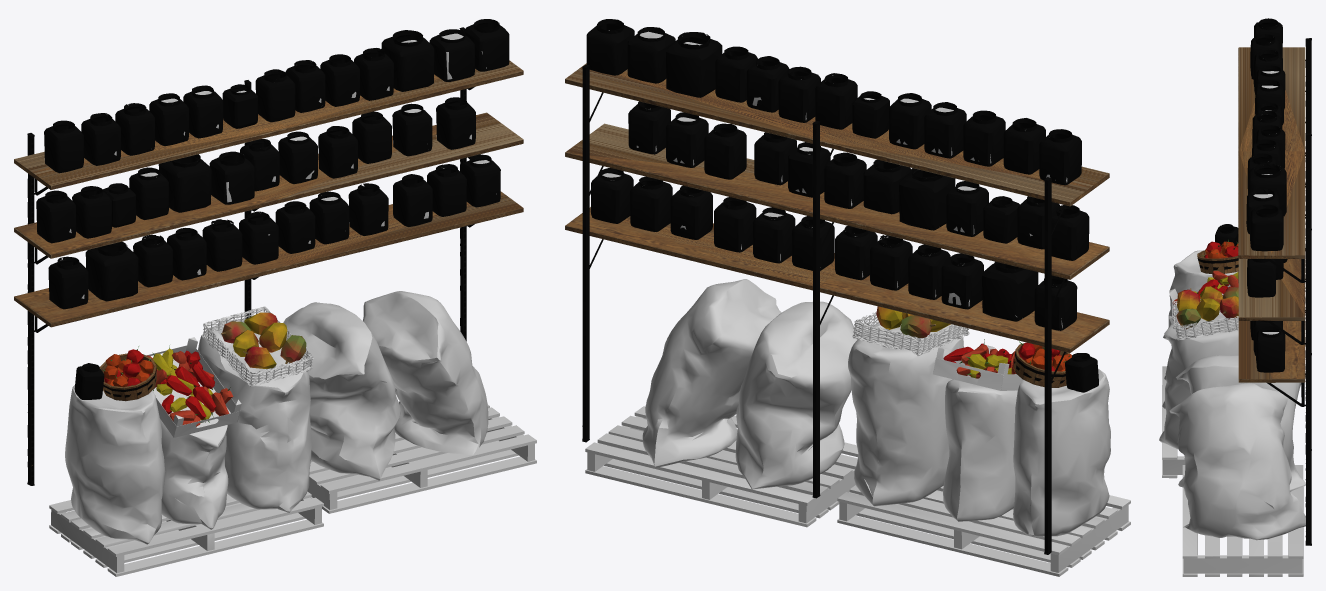
The model's file is vasi e sacchi.fbx.
3 renders of one model, left to right at view 1: azimuth 30°, elevation 25°; view 2: azimuth 150°, elevation 25°; view 3: azimuth 270°, elevation 25°, orthographic. The views are drawn at different scales.
Visible parts, largest first — view 1: AM216_33_bags_01, AM216_33_jar_01_28_1, AM216_33_shelves_01, AM216_33_pallet_01_1, AM216_33_jar_03_02_1, AM216_33_jar_04_02_1, AM216_33_jar_02_02_1, AM216_33_basket_01, AM216_33_box_01, AM216_33_pepper_01_10_1, AM216_33_pepper_03_09_1, AM216_33_mango_01_1 (+5 smaller); view 2: AM216_33_bags_01, AM216_33_jar_01_28_1, AM216_33_shelves_01, AM216_33_pallet_01_1, AM216_33_jar_03_02_1, AM216_33_jar_04_02_1, AM216_33_jar_02_02_1, AM216_33_basket_01, AM216_33_box_01, AM216_33_bucket_01; view 3: AM216_33_bags_01, AM216_33_shelves_01, AM216_33_jar_01_28_1, AM216_33_pallet_01_1, AM216_33_jar_04_02_1, AM216_33_jar_03_02_1, AM216_33_basket_01, AM216_33_mango_00_1, AM216_33_jar_02_02_1, AM216_33_bucket_01, AM216_33_mango_01_1, AM216_33_mango_05_1 (+4 smaller).
Part boxes in pixels (x1,y1,x2,y2): AM216_33_bags_01: (65, 291, 488, 544); AM216_33_jar_01_28_1: (36, 48, 500, 309); AM216_33_shelves_01: (14, 27, 523, 485); AM216_33_pallet_01_1: (49, 404, 536, 576); AM216_33_jar_03_02_1: (85, 30, 434, 301); AM216_33_jar_04_02_1: (209, 19, 509, 204); AM216_33_jar_02_02_1: (74, 84, 257, 399); AM216_33_basket_01: (201, 306, 314, 386); AM216_33_box_01: (147, 337, 241, 437); AM216_33_pepper_01_10_1: (148, 350, 216, 419); AM216_33_pepper_03_09_1: (146, 351, 233, 426); AM216_33_mango_01_1: (233, 322, 287, 356); AM216_33_bags_01: (642, 279, 1110, 536); AM216_33_jar_01_28_1: (591, 46, 1089, 330); AM216_33_shelves_01: (565, 63, 1109, 554); AM216_33_pallet_01_1: (585, 406, 1130, 576); AM216_33_jar_03_02_1: (666, 32, 1038, 321); AM216_33_jar_04_02_1: (586, 19, 911, 214); AM216_33_jar_02_02_1: (852, 91, 1098, 392); AM216_33_basket_01: (852, 312, 969, 355); AM216_33_box_01: (933, 345, 1022, 390); AM216_33_bucket_01: (1013, 343, 1069, 387); AM216_33_bags_01: (1159, 250, 1305, 540); AM216_33_shelves_01: (1238, 38, 1311, 545); AM216_33_jar_01_28_1: (1247, 18, 1287, 372); AM216_33_pallet_01_1: (1162, 366, 1303, 576); AM216_33_jar_04_02_1: (1246, 188, 1283, 251); AM216_33_jar_03_02_1: (1248, 163, 1286, 216); AM216_33_basket_01: (1172, 293, 1238, 340); AM216_33_mango_00_1: (1177, 288, 1238, 319); AM216_33_jar_02_02_1: (1215, 103, 1282, 246); AM216_33_bucket_01: (1197, 249, 1238, 273); AM216_33_mango_01_1: (1196, 286, 1223, 321); AM216_33_mango_05_1: (1176, 286, 1238, 329).
Size of the model in its own units: 259 by 219 by 80.51.
